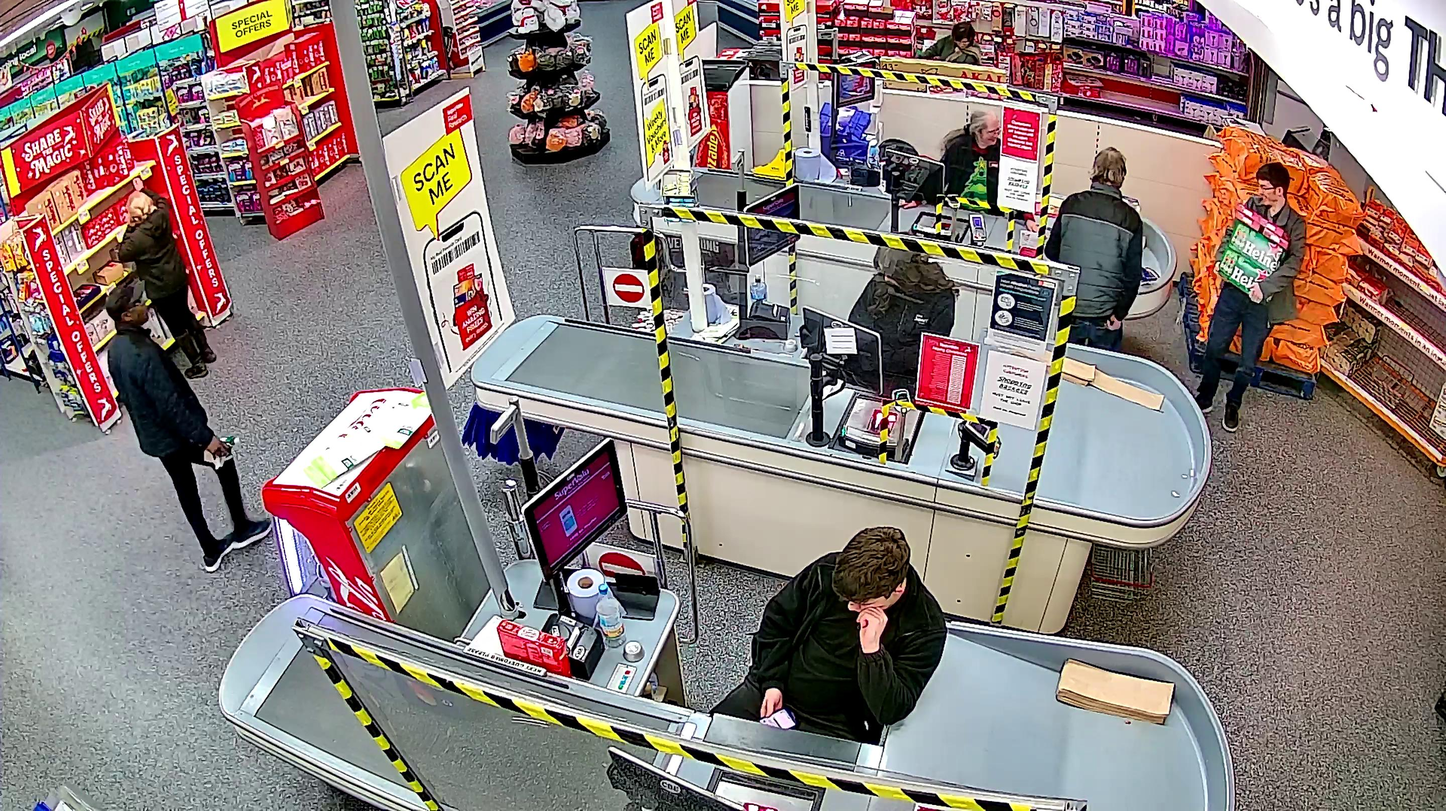empty-shopping-bags: (211, 435, 240, 470)
occupied-checkout-counter: (519, 433, 926, 811), (740, 181, 1002, 482), (829, 59, 1018, 260)
person: (103, 280, 273, 572)
person-with-empty-shopping-bag-s-: (103, 280, 271, 579)
